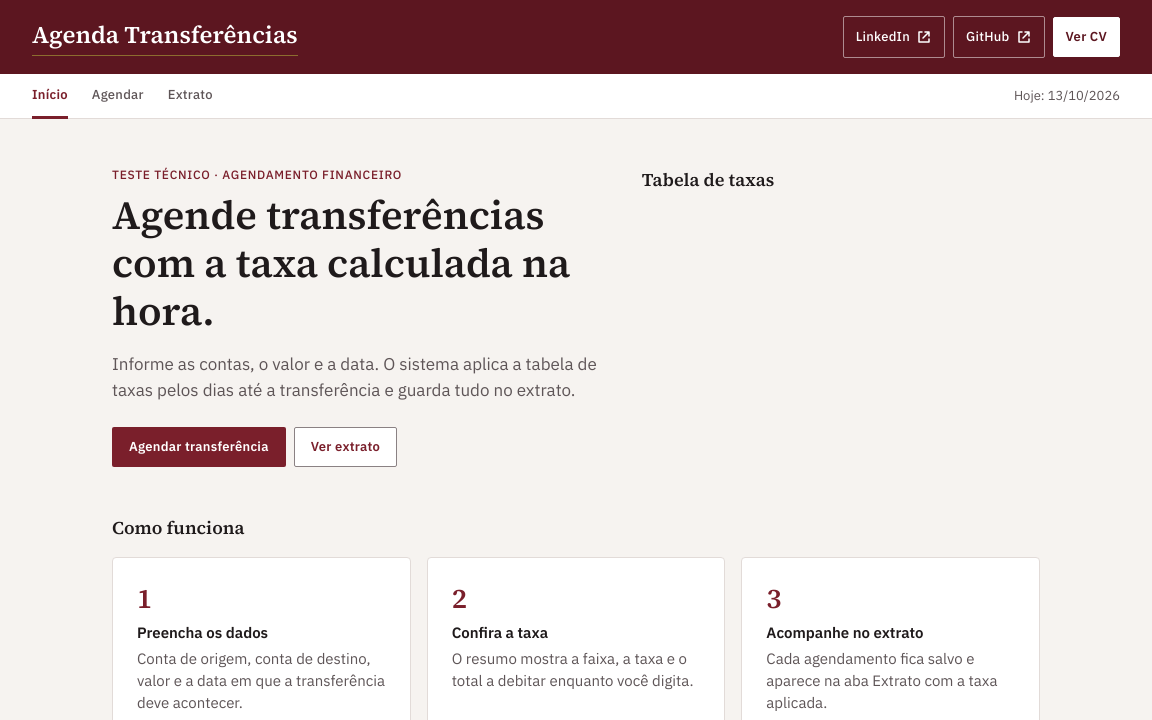
Test case: App › abre o extrato pela aba e pelo botão "Ver extrato"
The width and height of the screenshot is (1152, 720).
Click the button "Ver extrato". click: (345, 447)
box: top-left (294, 427), bottom-right (397, 467)
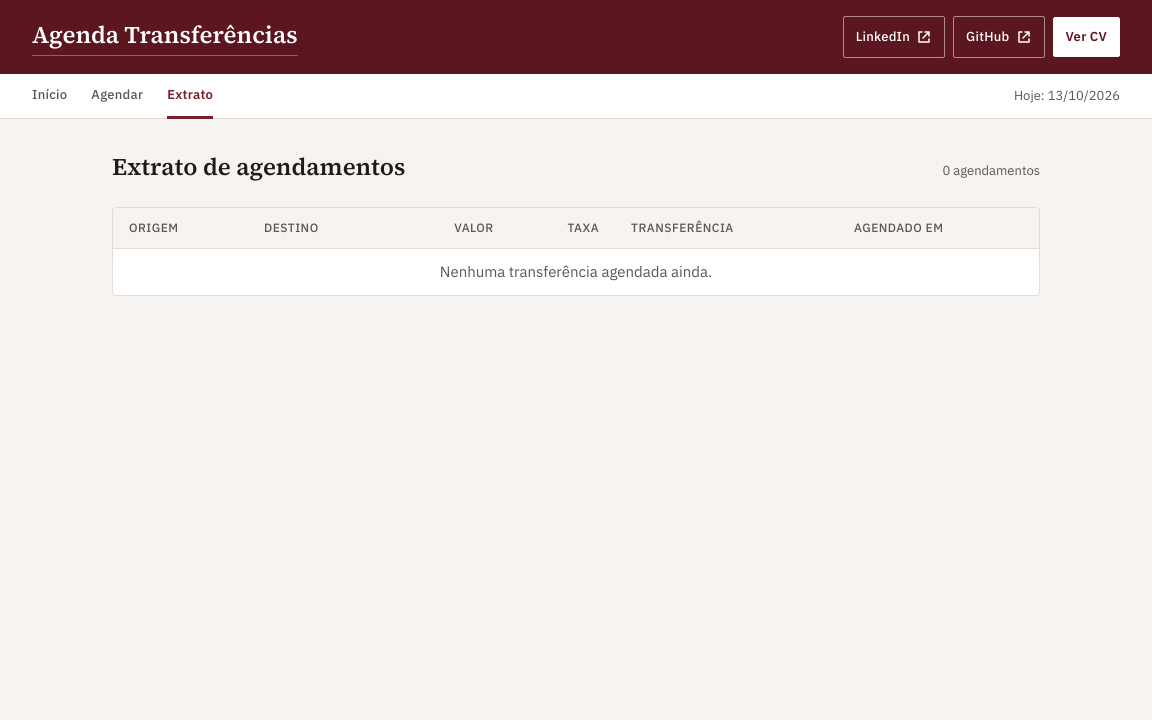
Now the heading "Extrato de agendamentos" is shown, box top-left (112, 151), bottom-right (405, 183)
